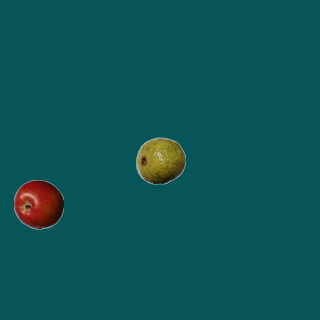Apple Braeburn: (13, 179, 63, 229)
Guava: (135, 135, 185, 185)
